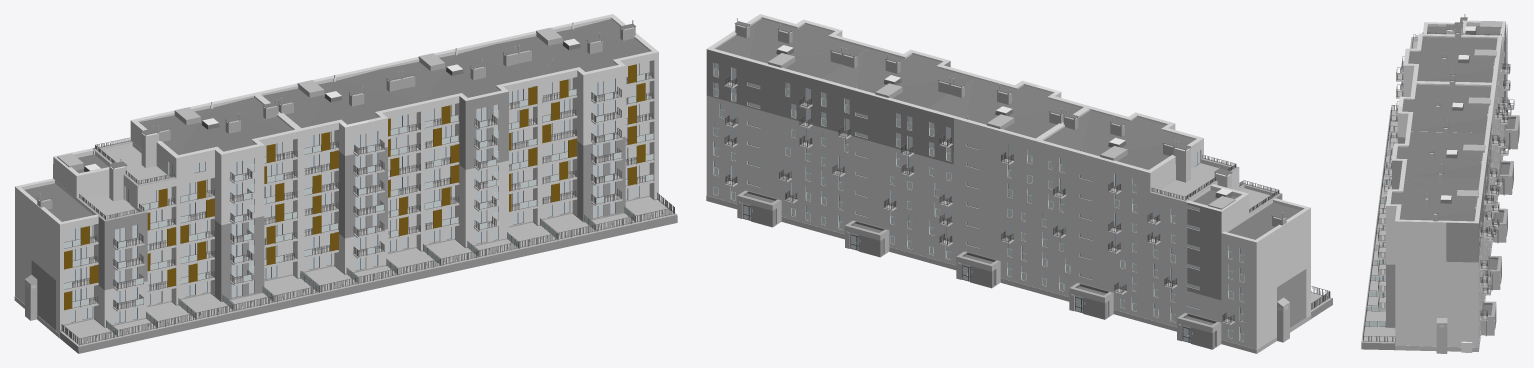
3 views of the same model, side by side, from view 1: azimuth 30°, elevation 25°; view 2: azimuth 150°, elevation 25°; view 3: azimuth 270°, elevation 25° (orthographic). The views are drawn at different scales.
Parts seen in each view (by area): view 1: 2Beqh8vpH32hXD9JGQslyl, 2TwXNexLXDNATg2ojOlmXj, 2LqqUDyI954u7D6C8Es50D, 2PU_Nu6bv2xwh9i27TbcRP, 2w2wBnJPT9TP1WUhSoKXD7, 2tQNvMXgr4DOAcxPv0fIlw, 2B4LOdMTrFzeEiZaBzklZw, 2XUZQgMd96ERhKjfQC5dSe, 2omsJS6aP8tgHtSWVt5uHL, 1uOoz1MoL7X89LTbUcvpp8, 3suZ1ZPPj7FQHSmZ62jGE0, 3PeR4tMRr5POAt9CJwBhoq (+17 smaller); view 2: 2Beqh8vpH32hXD9JGQslyl, 2uQWDqlh98LR7EszH2Niqc, 2PU_Nu6bv2xwh9i27TbcRP, 0Bncj5xtbEmxJd2wFeoXcU, 2w2wBnJPT9TP1WUhSoKXD7, 2tQNvMXgr4DOAcxPv0fIlw, 2B4LOdMTrFzeEiZaBzklZw, 2XUZQgMd96ERhKjfQC5dSe, 2vs1sKSeLCEfKKH9QSGSgD, 21UIZsXIP60hcMKi2kbzaN, 3moTo6A7n2iQO9Xl4GMSJr, 0$RfNWpBnAbQtbAucxP_io (+9 smaller); view 3: 2Beqh8vpH32hXD9JGQslyl, 2PU_Nu6bv2xwh9i27TbcRP, 2TwXNexLXDNATg2ojOlmXj, 2w2wBnJPT9TP1WUhSoKXD7, 2tQNvMXgr4DOAcxPv0fIlw, 2XUZQgMd96ERhKjfQC5dSe, 2B4LOdMTrFzeEiZaBzklZw, 2BR4YYEErA$vY$lvJMRTFw, 1z4uO4Biz5wQopYziaLF_r, 0$RfNWpBnAbQtbAucxP_io, 17JcU1I6D8Vgmlo4Ek94ii, 2zR3jMvh5AzQ8xy5kee359 (+26 smaller).
Boxes of the visible parts, left/top/right/bottom form: 2Beqh8vpH32hXD9JGQslyl: left=15, top=17, right=658, bottom=333; 2TwXNexLXDNATg2ojOlmXj: left=60, top=196, right=677, bottom=346; 2LqqUDyI954u7D6C8Es50D: left=60, top=215, right=677, bottom=353; 2PU_Nu6bv2xwh9i27TbcRP: left=130, top=14, right=658, bottom=158; 2w2wBnJPT9TP1WUhSoKXD7: left=181, top=111, right=289, bottom=154; 2tQNvMXgr4DOAcxPv0fIlw: left=308, top=82, right=416, bottom=126; 2B4LOdMTrFzeEiZaBzklZw: left=543, top=30, right=649, bottom=74; 2XUZQgMd96ERhKjfQC5dSe: left=426, top=55, right=533, bottom=100; 2omsJS6aP8tgHtSWVt5uHL: left=465, top=91, right=508, bottom=169; 1uOoz1MoL7X89LTbUcvpp8: left=221, top=216, right=264, bottom=300; 3suZ1ZPPj7FQHSmZ62jGE0: left=345, top=147, right=387, bottom=238; 3PeR4tMRr5POAt9CJwBhoq: left=104, top=212, right=147, bottom=290; 2Beqh8vpH32hXD9JGQslyl: left=706, top=17, right=1310, bottom=349; 2uQWDqlh98LR7EszH2Niqc: left=706, top=49, right=953, bottom=164; 2PU_Nu6bv2xwh9i27TbcRP: left=706, top=14, right=1203, bottom=173; 0Bncj5xtbEmxJd2wFeoXcU: left=1187, top=203, right=1221, bottom=300; 2w2wBnJPT9TP1WUhSoKXD7: left=1082, top=110, right=1194, bottom=154; 2tQNvMXgr4DOAcxPv0fIlw: left=965, top=78, right=1079, bottom=121; 2B4LOdMTrFzeEiZaBzklZw: left=749, top=19, right=863, bottom=61; 2XUZQgMd96ERhKjfQC5dSe: left=856, top=48, right=970, bottom=90; 2vs1sKSeLCEfKKH9QSGSgD: left=706, top=195, right=1311, bottom=353; 21UIZsXIP60hcMKi2kbzaN: left=1228, top=203, right=1300, bottom=239; 3moTo6A7n2iQO9Xl4GMSJr: left=1277, top=269, right=1306, bottom=327; 0$RfNWpBnAbQtbAucxP_io: left=760, top=47, right=867, bottom=78; 2Beqh8vpH32hXD9JGQslyl: left=1386, top=22, right=1507, bottom=347; 2PU_Nu6bv2xwh9i27TbcRP: left=1386, top=33, right=1502, bottom=223; 2TwXNexLXDNATg2ojOlmXj: left=1361, top=110, right=1397, bottom=343; 2w2wBnJPT9TP1WUhSoKXD7: left=1408, top=38, right=1488, bottom=80; 2tQNvMXgr4DOAcxPv0fIlw: left=1402, top=87, right=1486, bottom=131; 2XUZQgMd96ERhKjfQC5dSe: left=1396, top=133, right=1480, bottom=176; 2B4LOdMTrFzeEiZaBzklZw: left=1390, top=178, right=1474, bottom=219; 2BR4YYEErA$vY$lvJMRTFw: left=1446, top=222, right=1478, bottom=262; 1z4uO4Biz5wQopYziaLF_r: left=1416, top=84, right=1491, bottom=116; 0$RfNWpBnAbQtbAucxP_io: left=1405, top=176, right=1479, bottom=207; 17JcU1I6D8Vgmlo4Ek94ii: left=1410, top=131, right=1485, bottom=163; 2zR3jMvh5AzQ8xy5kee359: left=1422, top=37, right=1497, bottom=64.
Size of the model in its own units: 88.11 by 24.27 by 24.51.
